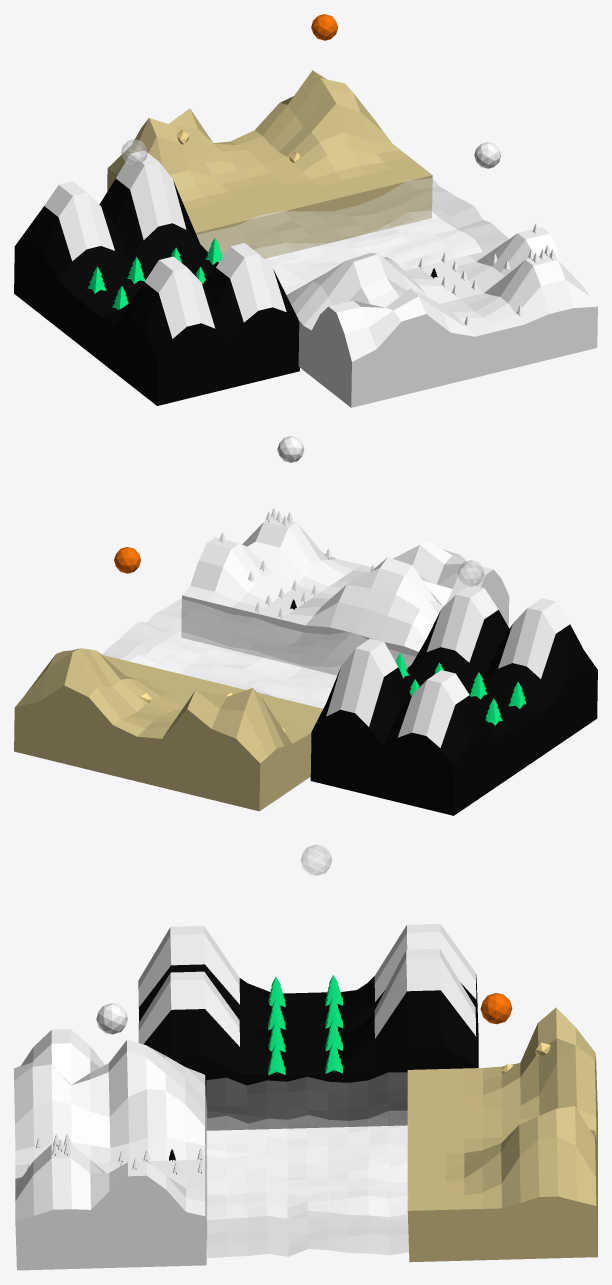
3 renders of one model, top to bottom at view 1: azimuth 30°, elevation 25°; view 2: azimuth 150°, elevation 25°; view 3: azimuth 270°, elevation 25°, orthographic. The views are drawn at different scales.
Parts seen in each view (by area): view 1: Box003, Box001, Box004, Box002, snow, GeoSphere005, GeoSphere004, GeoSphere006; view 2: Box001, Box004, Box003, Box002, snow, GeoSphere005, GeoSphere006, GeoSphere004; view 3: Box003, Box001, Box002, Box004, snow, GeoSphere005, GeoSphere004, GeoSphere006.
Boxes of the visible parts, box(x1,y1,x2,y2) form: Box003: box(286, 227, 597, 407); Box001: box(107, 70, 432, 262); Box004: box(14, 178, 299, 405); Box002: box(197, 178, 508, 294); snow: box(44, 150, 286, 338); GeoSphere005: box(474, 142, 501, 168); GeoSphere004: box(311, 14, 337, 40); GeoSphere006: box(121, 139, 147, 165); Box001: box(14, 648, 322, 811); Box004: box(310, 610, 597, 815); Box003: box(181, 517, 509, 675); Box002: box(101, 598, 415, 708); snow: box(326, 585, 569, 747); GeoSphere005: box(277, 436, 304, 462); GeoSphere006: box(457, 560, 484, 586); GeoSphere004: box(114, 547, 140, 573); Box003: box(14, 1029, 206, 1270); Box001: box(407, 1007, 597, 1262); Box002: box(206, 1072, 408, 1258); Box004: box(139, 964, 478, 1130); snow: box(138, 924, 476, 1046); GeoSphere005: box(96, 1003, 127, 1034); GeoSphere004: box(480, 993, 512, 1024); GeoSphere006: box(300, 844, 332, 875).
Bounding box in the file's own units: 220 × 110 × 243.
